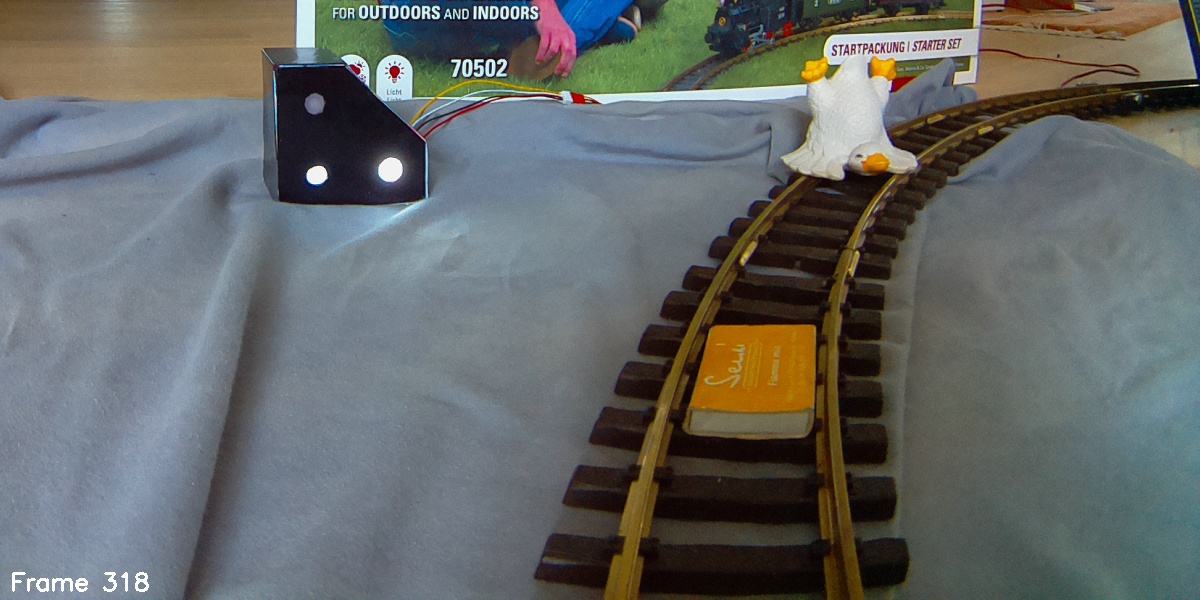Ente: (779, 54, 921, 186)
Halt: (261, 49, 430, 204)
